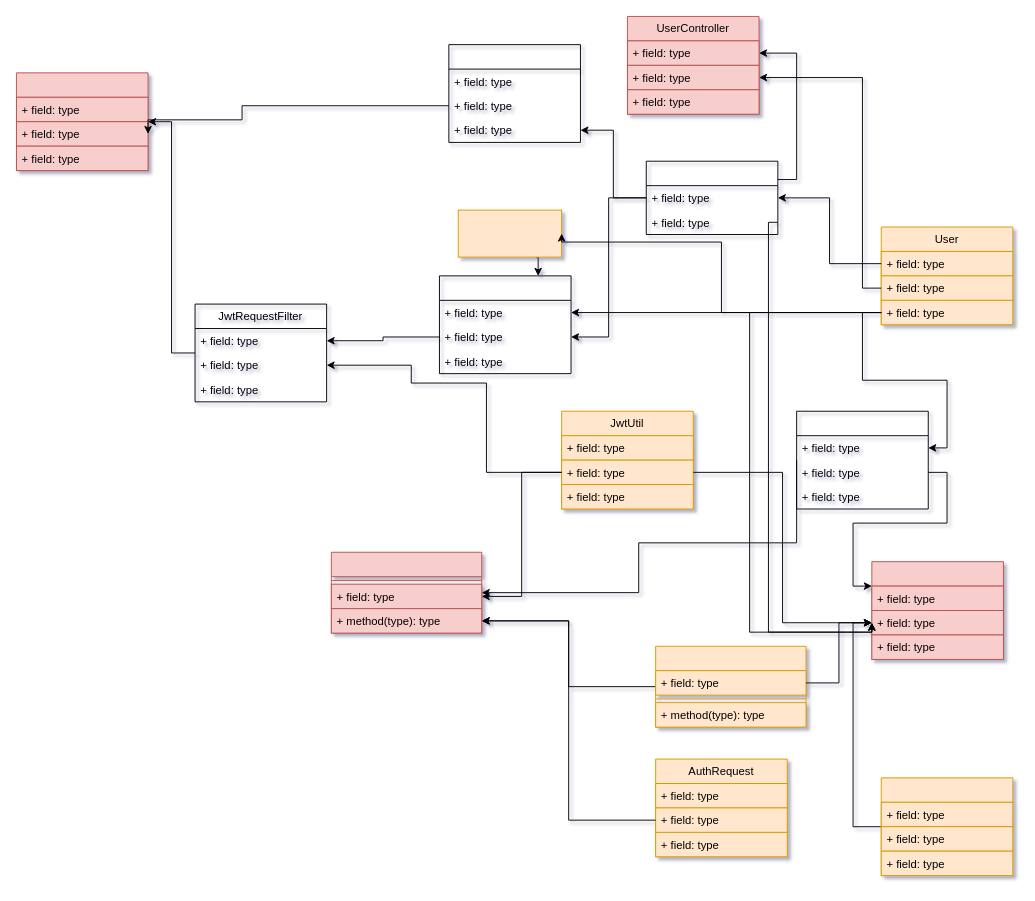
Some shapes in this 1035 by 901 pixel diagram are drawn without their labels. The shapes that lost their labels are listed below. From the top down, each one's box as (x1, y1, x2, y2) in pixels, then its label:
(448, 44, 580, 142): UserDetailsServiceImpl
(16, 72, 148, 171): SecurityConfig
(645, 160, 778, 235): UserRepository
(457, 209, 562, 257): «interface» UserService
(439, 275, 571, 374): UserServiceImpl
(796, 410, 928, 509): UserDetailsImpl
(330, 551, 482, 633): AuthController
(871, 561, 1003, 659): AuthRegisterController
(655, 645, 806, 727): AuthResponse
(880, 777, 1013, 876): RegisterRequest
